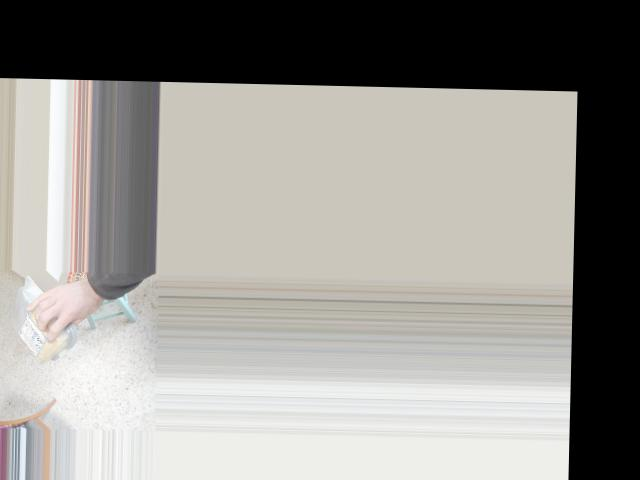cheese: (16, 275, 61, 374)
